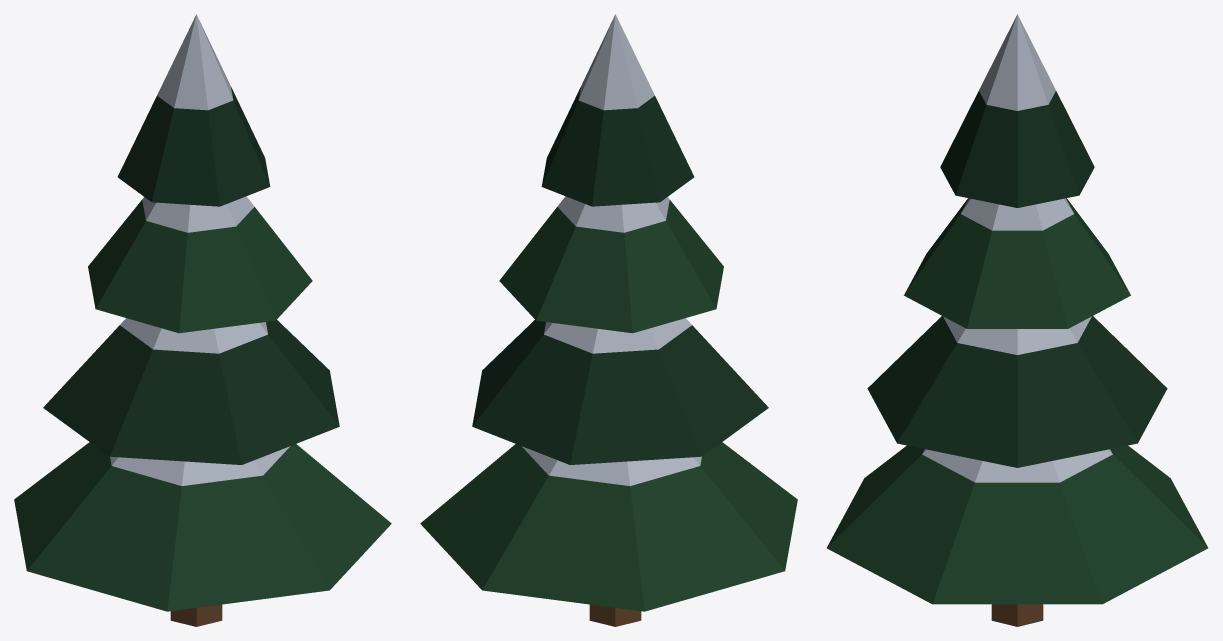
File: pine_snow.glb
The picture shows the model from 3 angles, left to right: view 1: azimuth 30°, elevation 25°; view 2: azimuth 150°, elevation 25°; view 3: azimuth 270°, elevation 25°; orthographic projection.
Visible parts, largest first — view 1: pine_snow2; view 2: pine_snow2; view 3: pine_snow2.
Boxes of the visible parts, left/top/right/bottom form: pine_snow2: left=14, top=14, right=391, bottom=626; pine_snow2: left=420, top=14, right=797, bottom=626; pine_snow2: left=827, top=14, right=1207, bottom=626.
Size of the model in its own units: 3.99 by 7.1 by 4.09.
